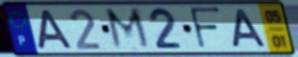2: (147, 6, 186, 52), (69, 8, 104, 51)
A: (37, 9, 75, 50), (232, 8, 269, 50)
F: (187, 6, 223, 51)
M: (102, 7, 155, 52)
